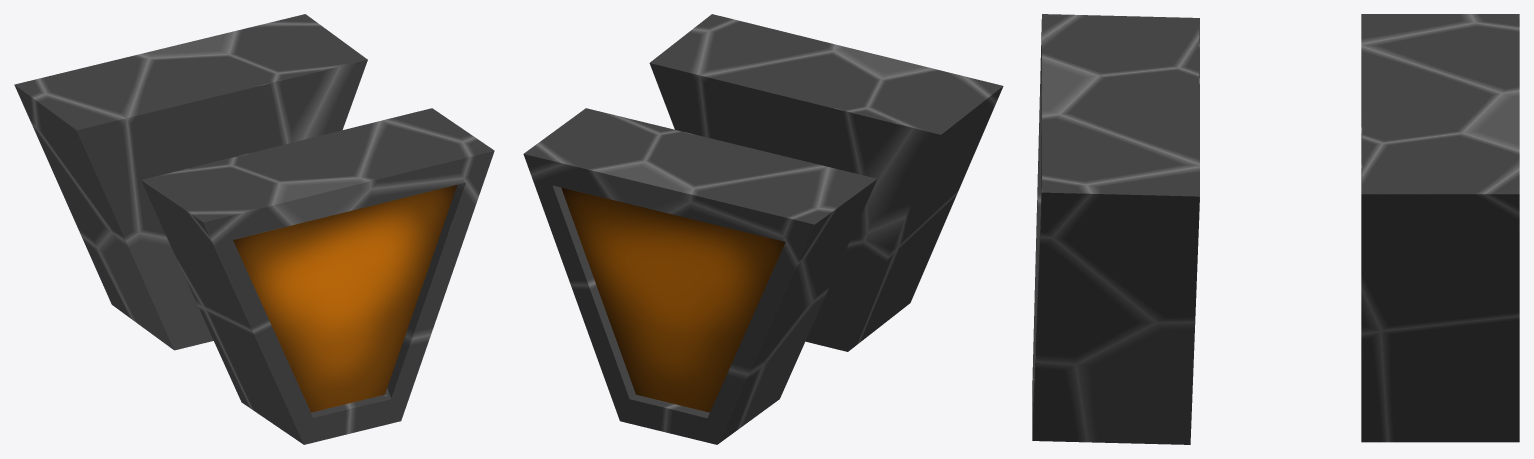
The model's file is Chevron_lit.glb.
3 renders of one model, left to right at view 1: azimuth 30°, elevation 25°; view 2: azimuth 150°, elevation 25°; view 3: azimuth 270°, elevation 25°, orthographic. The views are drawn at different scales.
Parts seen in each view (by area): view 1: Chevron_lit; view 2: Chevron_lit; view 3: Chevron_lit.
Part boxes in pixels (bbox=[...]): Chevron_lit: bbox=[14, 14, 494, 444]; Chevron_lit: bbox=[523, 14, 1003, 444]; Chevron_lit: bbox=[1032, 14, 1519, 444].
Bounding box in the file's own units: 0.5384 × 0.4362 × 0.616.
Materials: 2 (2 with a texture image).
